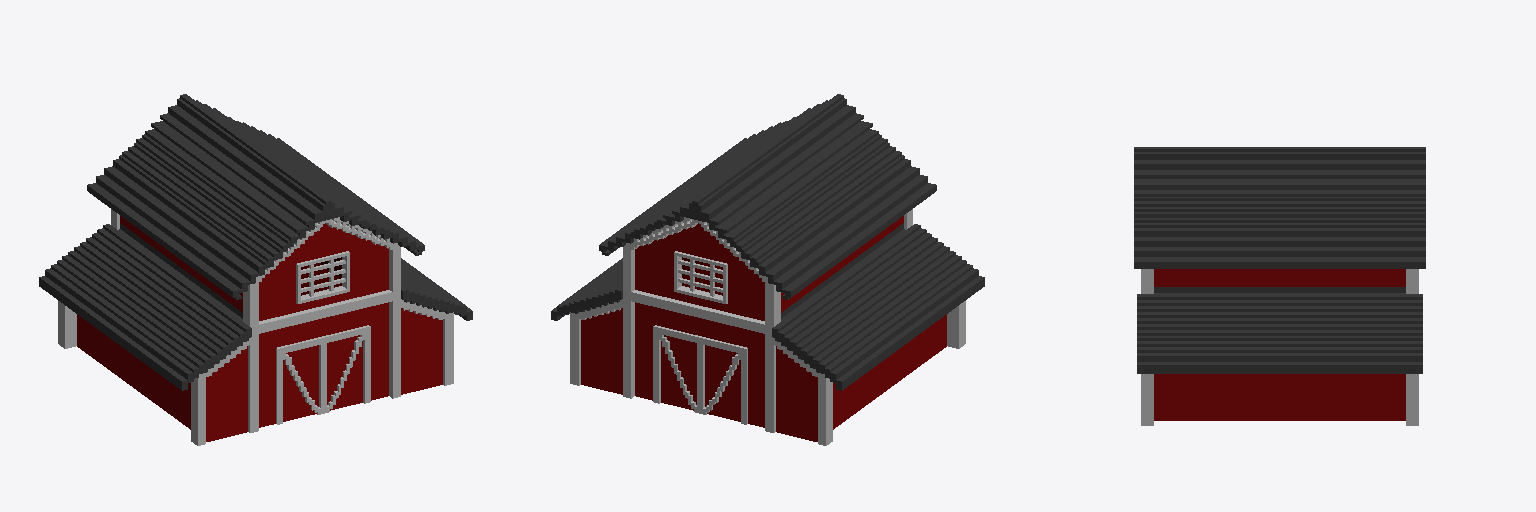
The picture shows the model from 3 angles: view 1: azimuth 30°, elevation 25°; view 2: azimuth 150°, elevation 25°; view 3: azimuth 270°, elevation 25°; orthographic projection.
Visible parts, largest first — view 1: tinker; view 2: tinker; view 3: tinker.
Boxes of the visible parts, x1,y1,x2,y2 form: tinker: [39, 94, 472, 445]; tinker: [551, 94, 984, 445]; tinker: [1134, 147, 1425, 425].
Size of the model in its own units: 10 by 7.1 by 8.7.
1 materials, 1 textured.